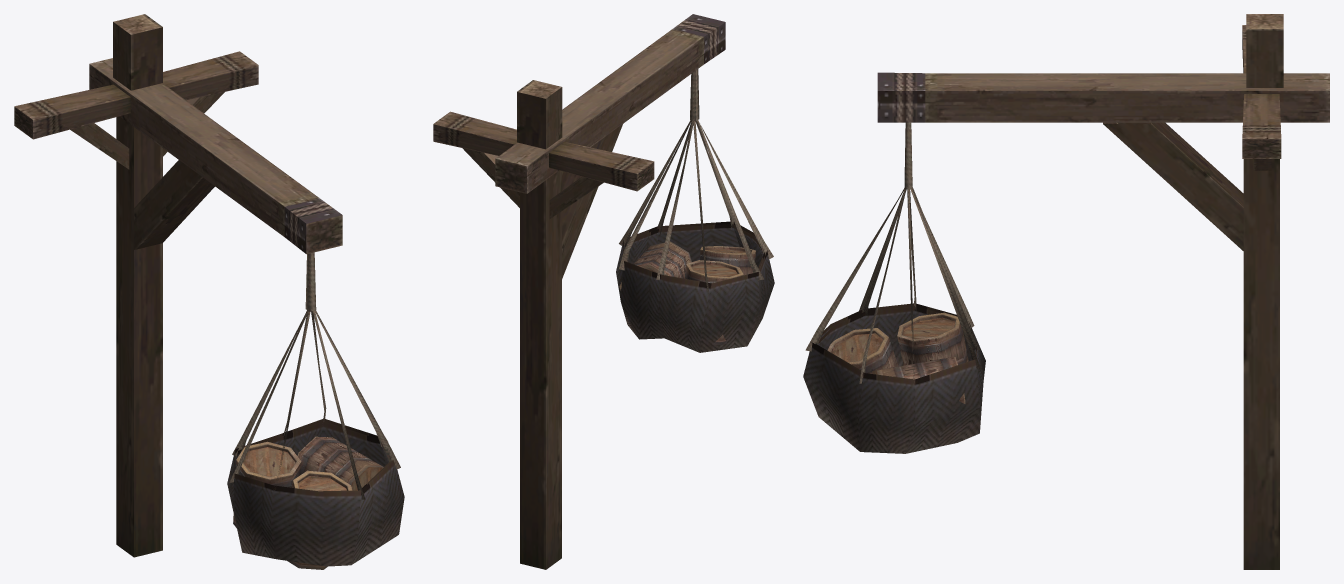
Rendered from fld_wujian06_jgc.FBX.
3 renders of one model, left to right at view 1: azimuth 30°, elevation 25°; view 2: azimuth 150°, elevation 25°; view 3: azimuth 270°, elevation 25°, orthographic. The views are drawn at different scales.
Visible parts, largest first — view 1: fld_wujian06_jgc; view 2: fld_wujian06_jgc; view 3: fld_wujian06_jgc.
Part boxes in pixels (<box>): fld_wujian06_jgc: <box>14,14,404,569</box>; fld_wujian06_jgc: <box>433,14,774,569</box>; fld_wujian06_jgc: <box>803,14,1329,569</box>.
Bounding box in the file's own units: 18.84 × 41.68 × 36.8.
Materials: 3 (3 with a texture image).
